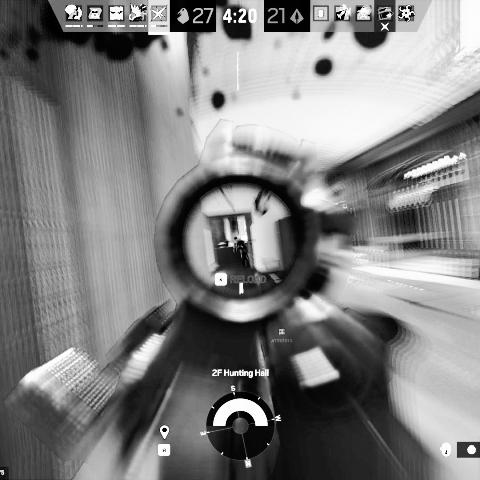Character: (233, 236, 250, 268)
Friend_label: (272, 328, 293, 344)
Head: (234, 236, 240, 242)
